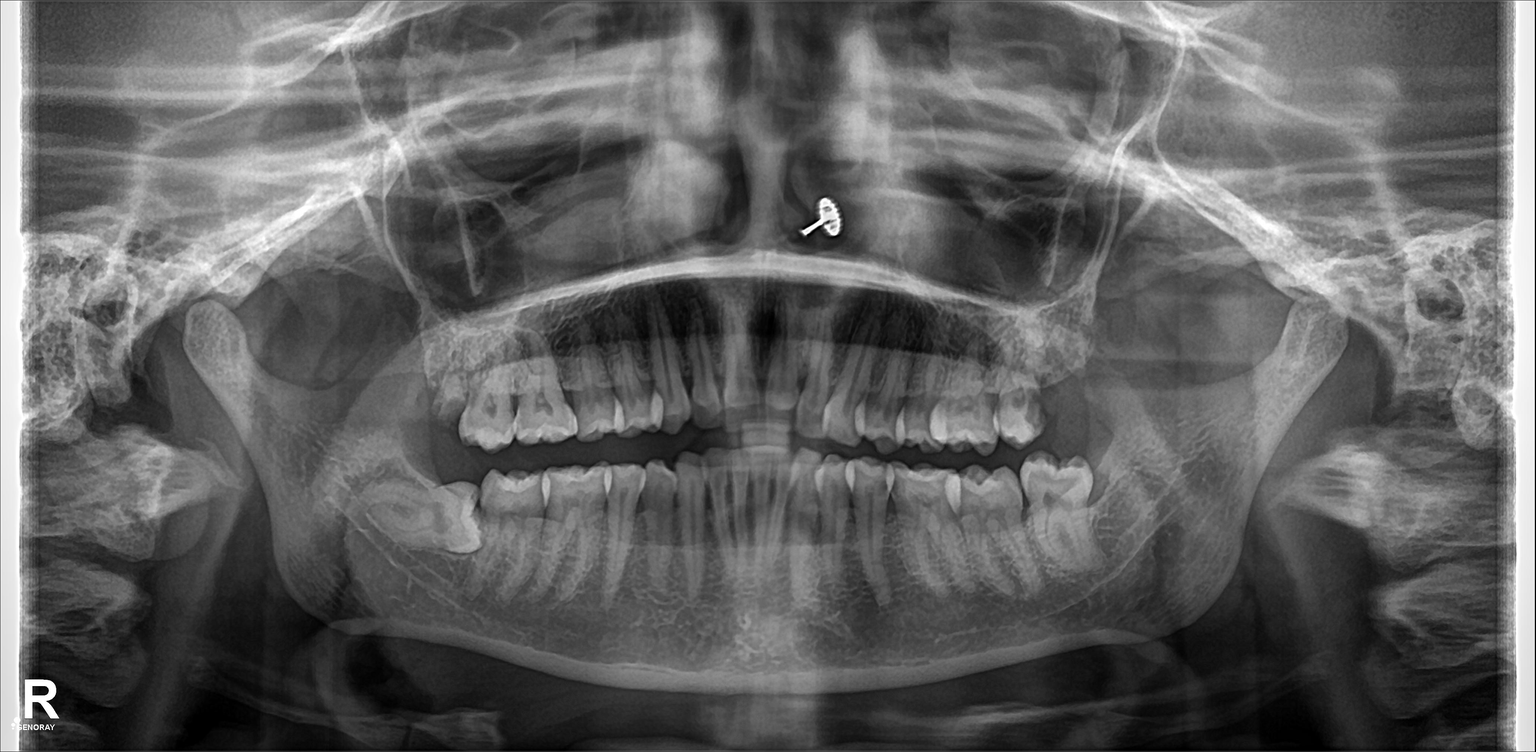Impacted Third Molar: (389, 478, 484, 548)
Missing Tooth: (1030, 357, 1085, 436)
Retained Root: (426, 365, 460, 434)
